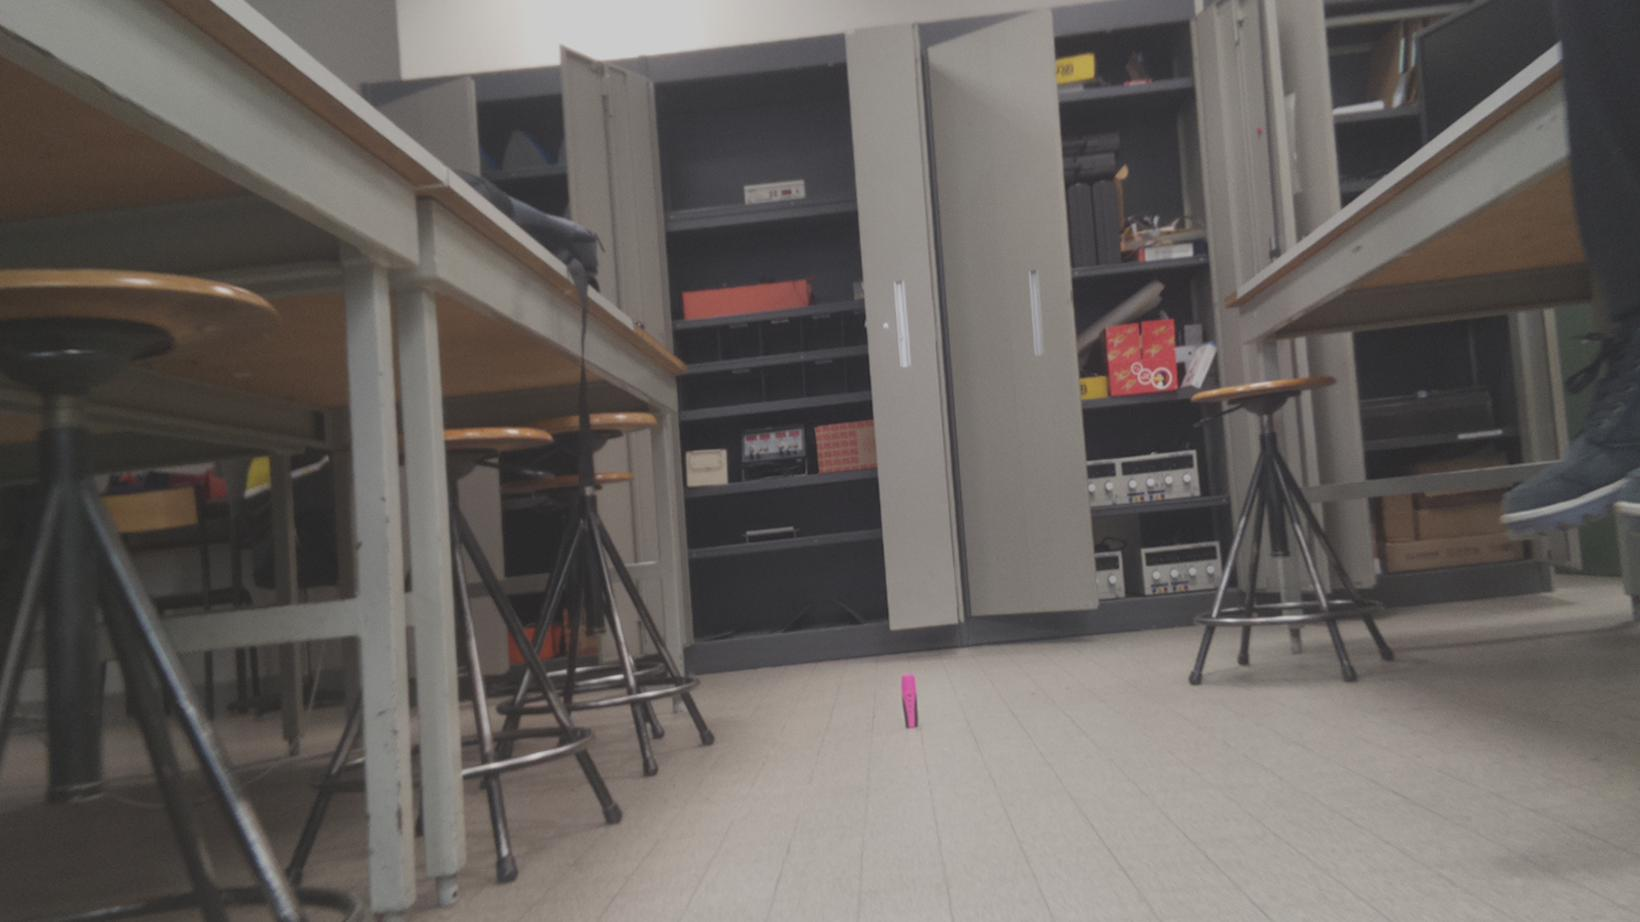small: (898, 671, 922, 729)
